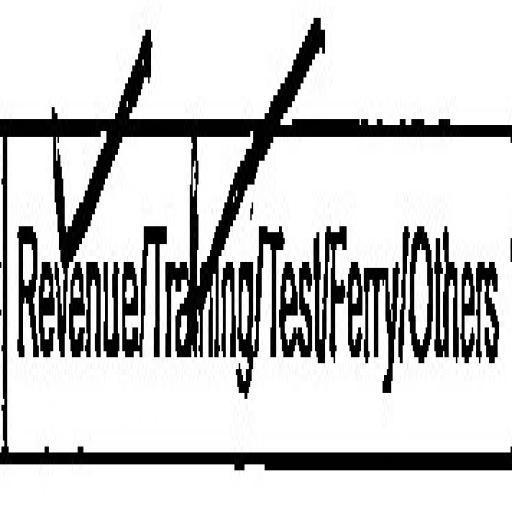check: (2, 18, 140, 512), (144, 6, 258, 512)
